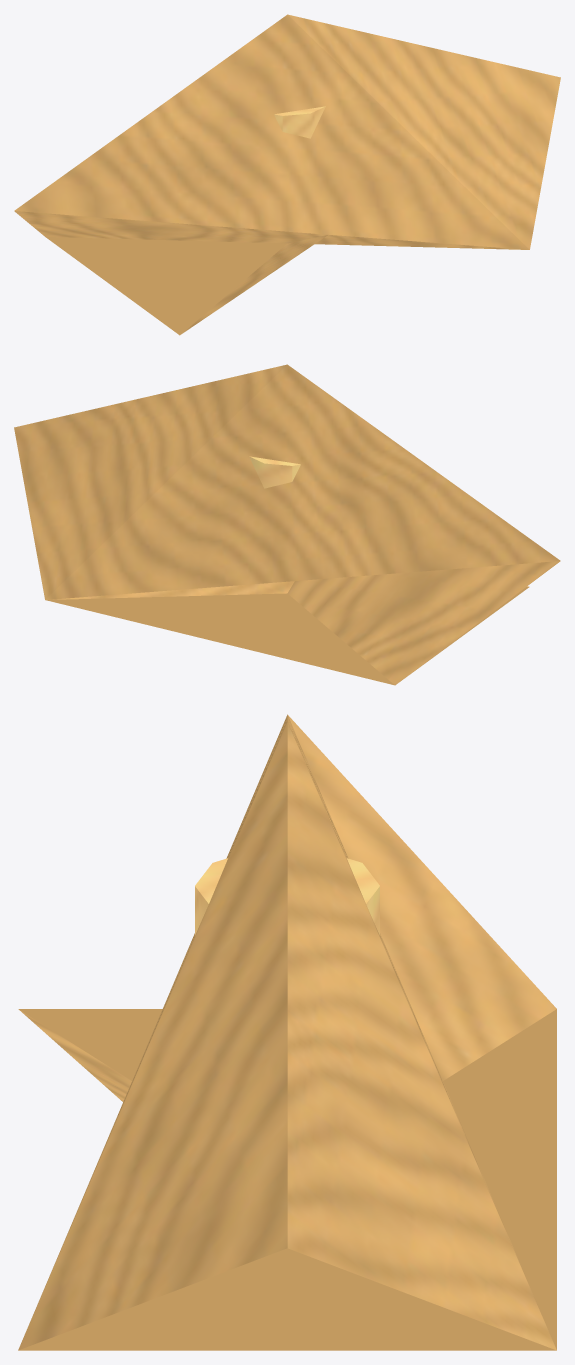
The model's file is model-river-lantern-paperboat.glb.
3 renders of one model, top to bottom at view 1: azimuth 30°, elevation 25°; view 2: azimuth 150°, elevation 25°; view 3: azimuth 270°, elevation 25°, orthographic. The views are drawn at different scales.
Parts seen in each view (by area): view 1: model-river-lantern-paperboat; view 2: model-river-lantern-paperboat; view 3: model-river-lantern-paperboat.
Boxes of the visible parts, x1=… form: model-river-lantern-paperboat: x1=14, y1=14, x2=560, y2=335; model-river-lantern-paperboat: x1=14, y1=364, x2=560, y2=685; model-river-lantern-paperboat: x1=18, y1=714, x2=556, y2=1350.
Size of the model in its own units: 0.975 by 0.39 by 0.416.
2 materials, 2 textured.
